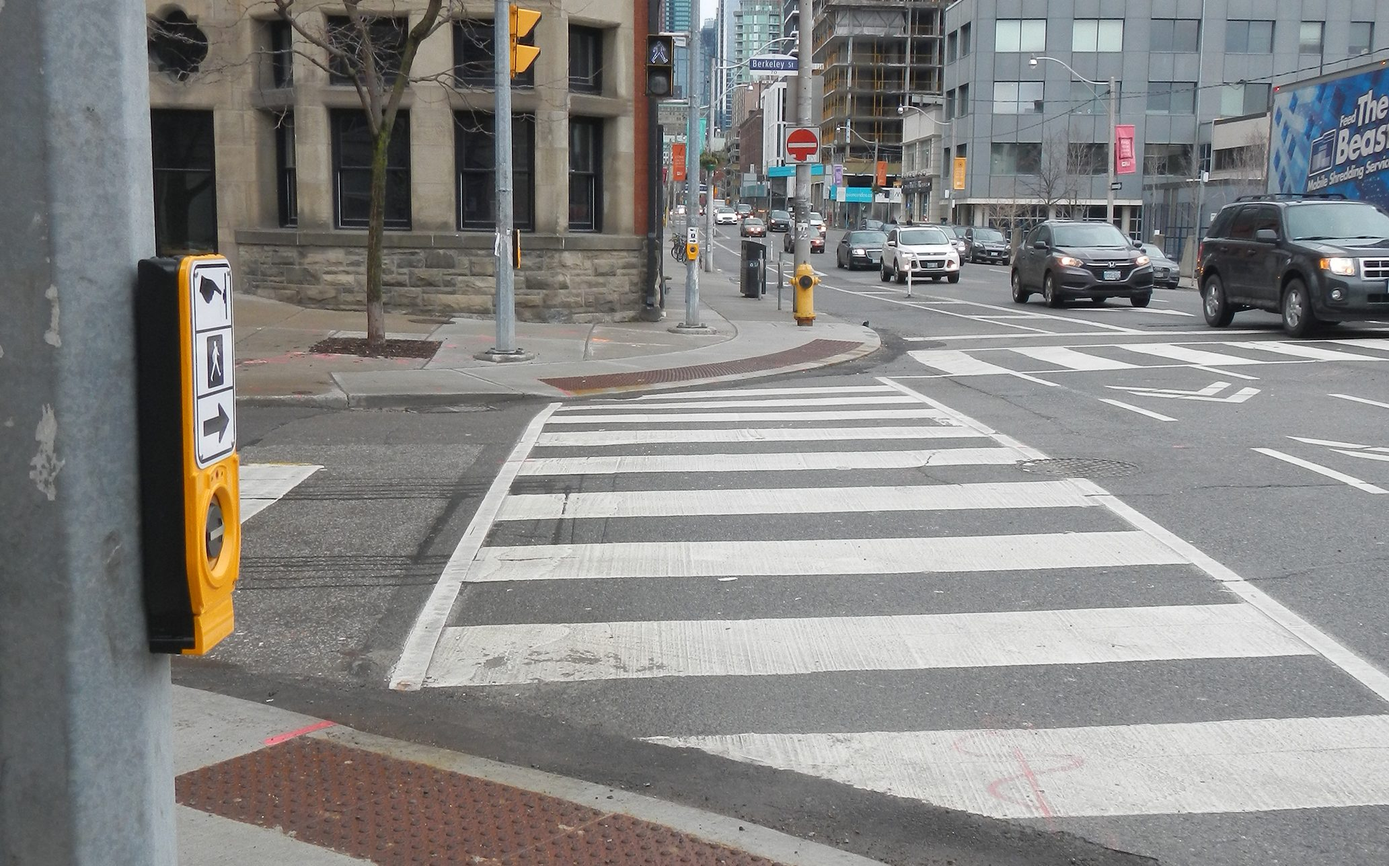Car: (1187, 196, 1389, 360), (1010, 216, 1155, 307), (880, 219, 967, 290), (827, 220, 883, 274)
Crosswalk: (395, 361, 1368, 837), (867, 323, 1353, 381)
